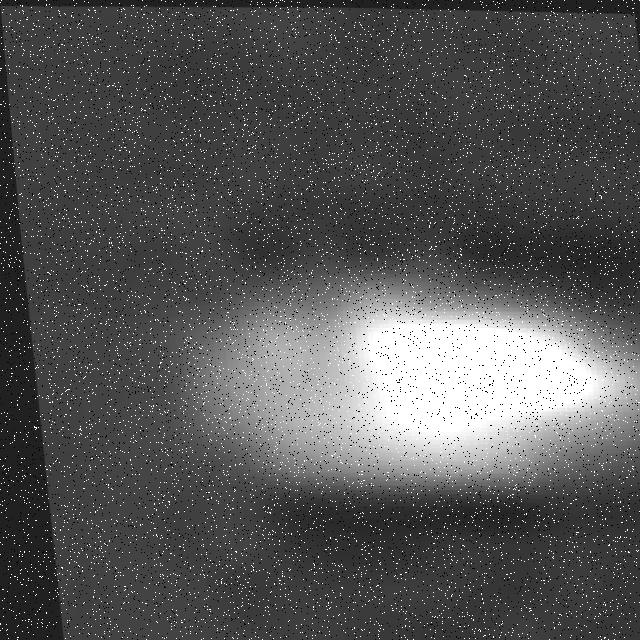person: (187, 282, 640, 512)
